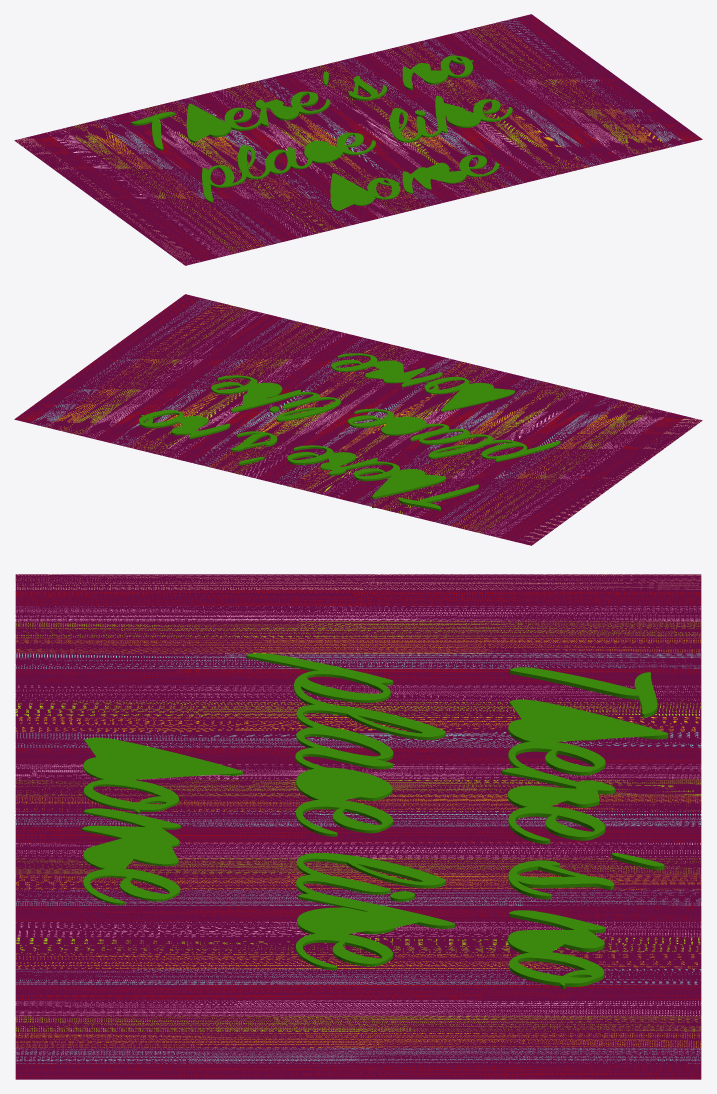
The model's file is Welcome mat.fbx.
3 renders of one model, top to bottom at view 1: azimuth 30°, elevation 25°; view 2: azimuth 150°, elevation 25°; view 3: azimuth 270°, elevation 25°, orthographic. The views are drawn at different scales.
Visible parts, largest first — view 1: Model, typeMesh1; view 2: Model, typeMesh1; view 3: Model, typeMesh1.
Part boxes in pixels (box(x1,y1,x2,y2)): Model: box(14, 14, 702, 265); typeMesh1: box(131, 55, 512, 211); Model: box(14, 294, 702, 545); typeMesh1: box(139, 353, 560, 510); Model: box(15, 574, 701, 1079); typeMesh1: box(82, 653, 668, 989).
Size of the model in its own units: 115 by 2.58 by 65.94.
